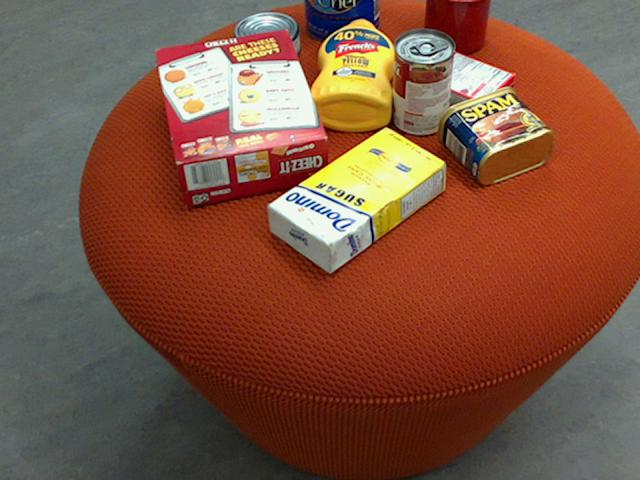cracker_box: (152, 27, 328, 203)
gelatin_box: (422, 53, 516, 119)
large_marker: (439, 0, 465, 47)
master_chef_can: (303, 0, 379, 42)
mug: (422, 0, 490, 54)
mustard_bottle: (307, 19, 395, 131)
potted_meat_can: (436, 86, 552, 184)
sugar_box: (266, 126, 446, 274)
tomato_soup_can: (392, 28, 454, 135)
tuna_fish_can: (231, 12, 299, 66)
